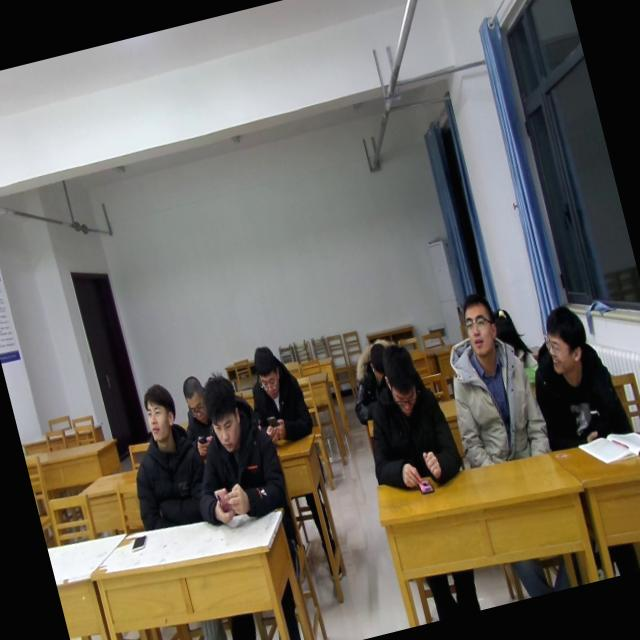bow: (235, 334, 318, 454), (339, 332, 415, 427), (486, 300, 545, 391), (172, 370, 224, 460)
down: (194, 366, 253, 459), (374, 338, 429, 421), (246, 335, 288, 405), (174, 368, 210, 427), (488, 300, 522, 352), (362, 340, 392, 384)
lookup: (452, 285, 504, 360), (132, 375, 184, 444)
sit: (426, 282, 555, 474), (168, 362, 294, 534), (346, 331, 467, 498), (515, 294, 635, 458), (108, 374, 218, 536)
